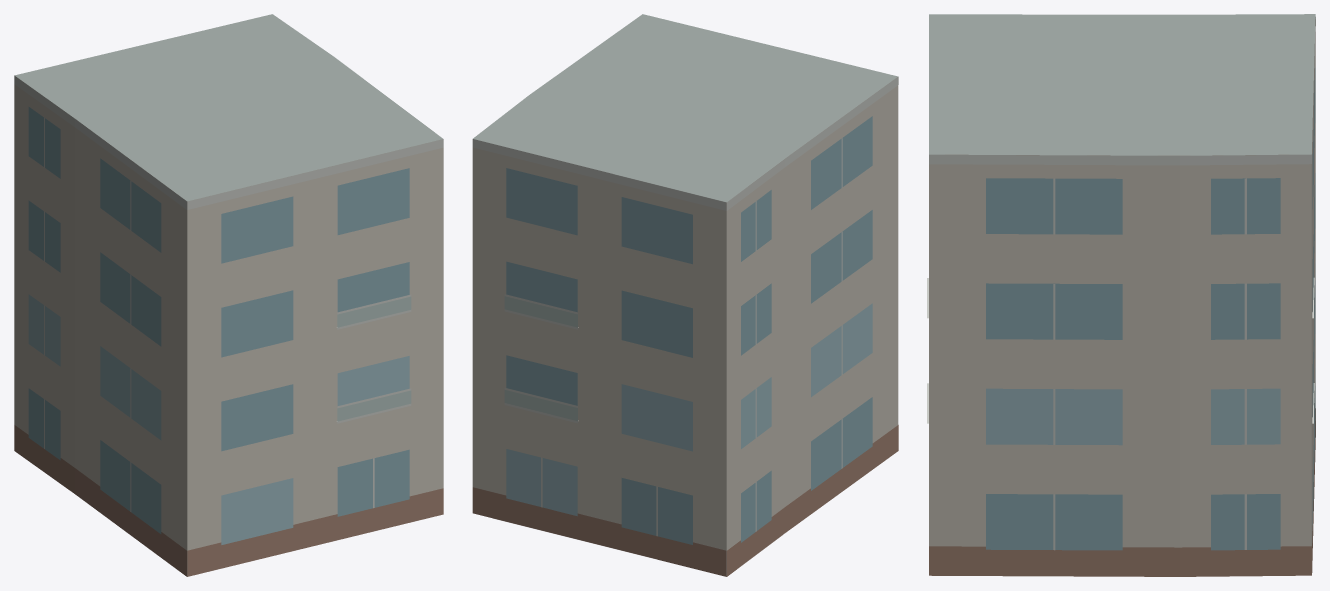
The model's file is survey-upis-32953501.glb.
3 renders of one model, left to right at view 1: azimuth 30°, elevation 25°; view 2: azimuth 150°, elevation 25°; view 3: azimuth 270°, elevation 25°, orthographic. The views are drawn at different scales.
Visible parts, largest first — view 1: survey-upis-32953501.tmp; view 2: survey-upis-32953501.tmp; view 3: survey-upis-32953501.tmp.
Part boxes in pixels (box(x1,y1,x2,y2)): survey-upis-32953501.tmp: box(14, 14, 443, 576); survey-upis-32953501.tmp: box(472, 14, 898, 576); survey-upis-32953501.tmp: box(927, 14, 1315, 576).
Bounding box in the file's own units: 7.66 × 10.6 × 8.87.
